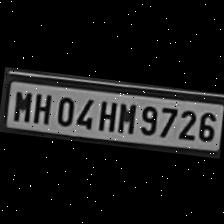0: (50, 90, 76, 126)
2: (174, 104, 198, 140)
4: (72, 92, 96, 128)
6: (194, 106, 218, 141)
7: (154, 102, 177, 138)
9: (135, 100, 160, 136)
H: (92, 95, 118, 131), (29, 88, 54, 124)
M: (112, 98, 136, 134), (10, 86, 34, 120)
